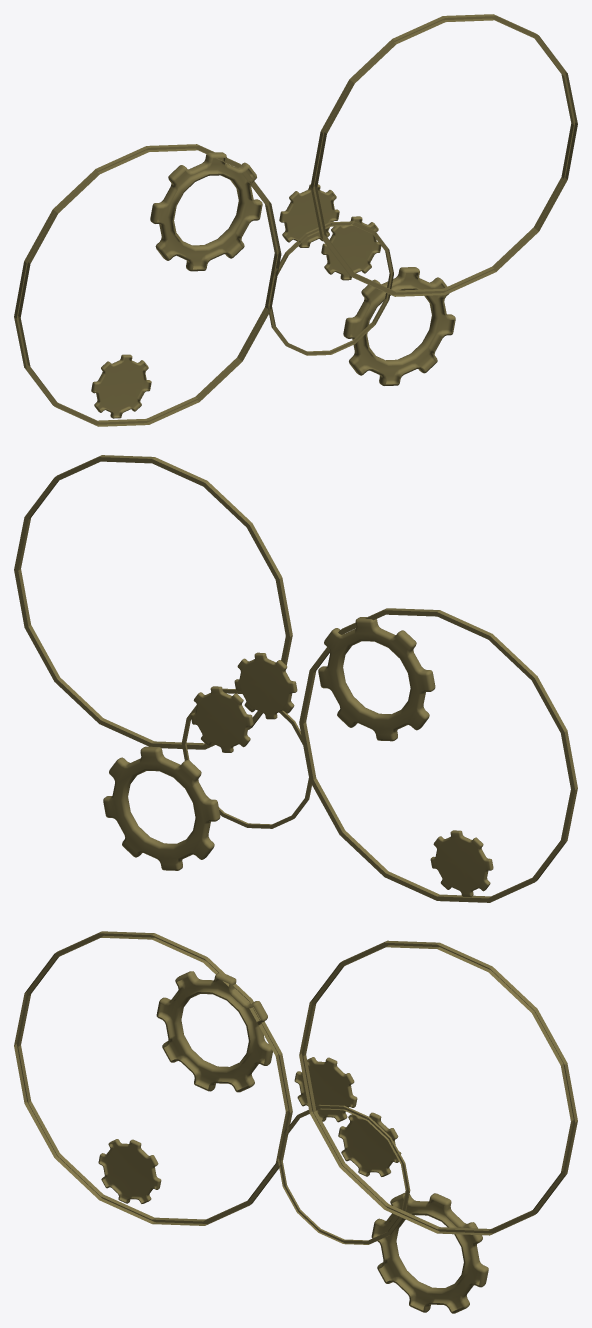
File: WABD_backgrounds_windowoutside_R_lo.fbx
The picture shows the model from 3 angles, top to bottom: view 1: azimuth 30°, elevation 25°; view 2: azimuth 150°, elevation 25°; view 3: azimuth 330°, elevation 25°; orthographic projection. The views are drawn at different scales.
Visible parts, largest first — view 1: windowoutside_right_lo; view 2: windowoutside_right_lo; view 3: windowoutside_right_lo.
Boxes of the visible parts, left/top/right/bottom form: windowoutside_right_lo: left=14, top=14, right=577, bottom=426; windowoutside_right_lo: left=14, top=455, right=577, bottom=902; windowoutside_right_lo: left=14, top=931, right=577, bottom=1313.
Size of the model in its own units: 1961 by 1274 by 138.
